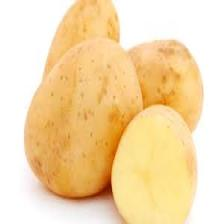Potato: (21, 34, 145, 202), (95, 33, 205, 156)
